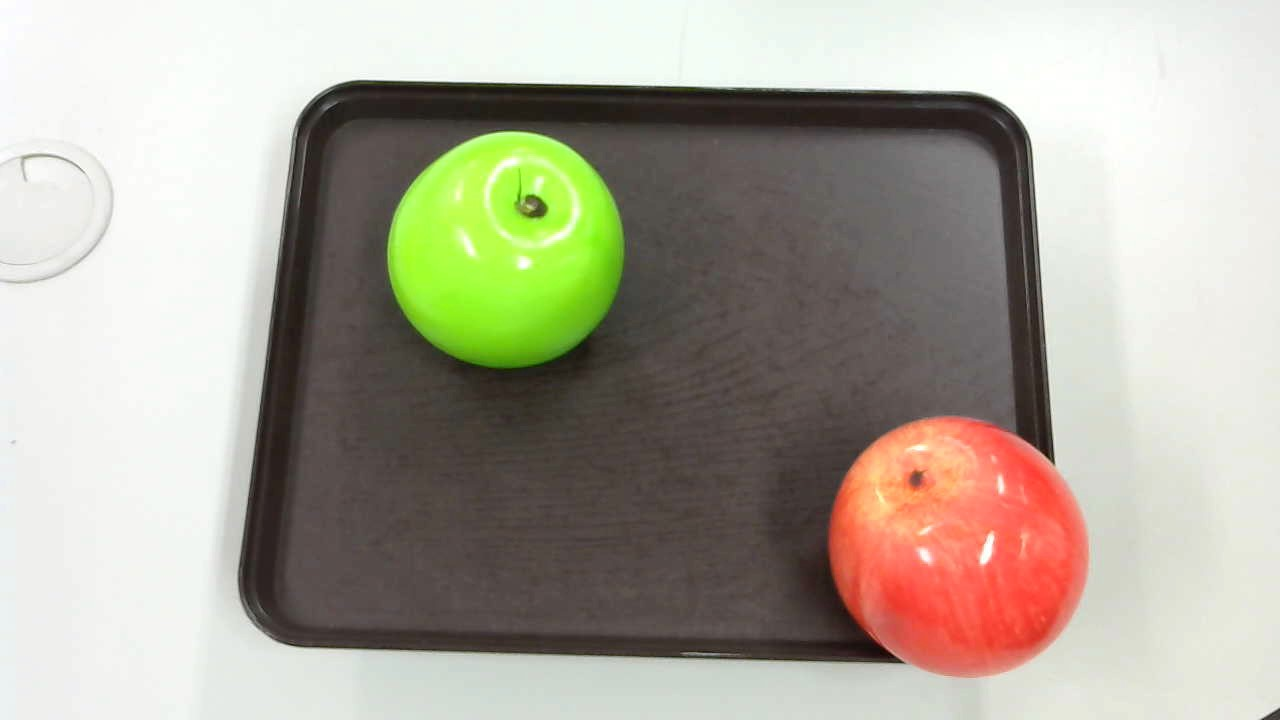green apple: (377, 128, 628, 374)
red apple: (820, 412, 1093, 673)
